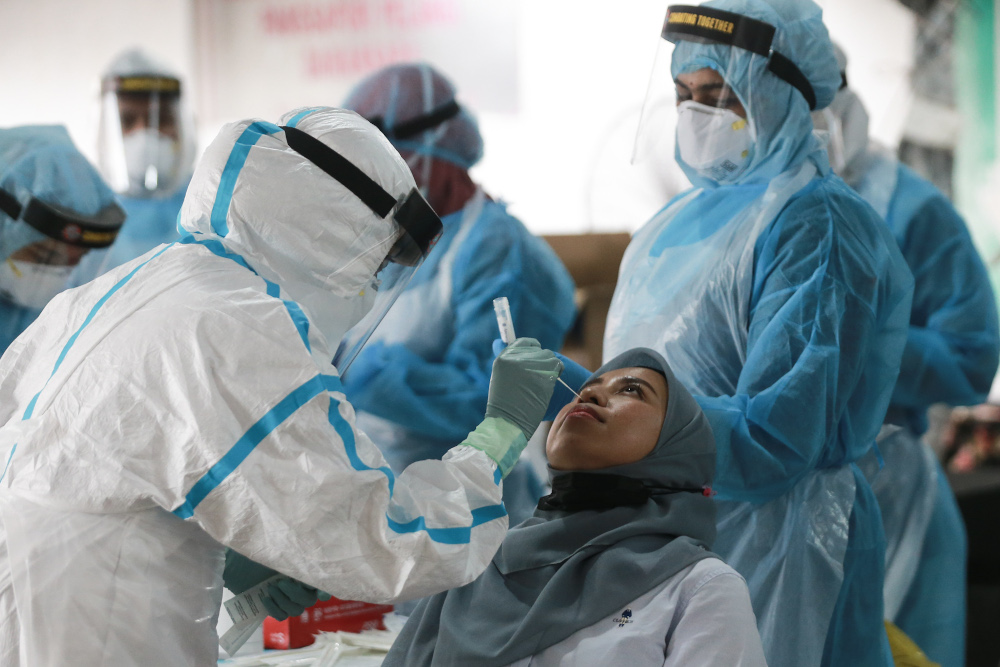Coverall: (1, 100, 488, 667)
Face_Shield: (620, 5, 776, 187), (1, 191, 135, 349), (343, 183, 444, 378), (89, 69, 198, 198)
Gloves: (460, 332, 566, 474)
with_mask: (665, 66, 745, 178), (4, 241, 89, 317), (114, 109, 178, 188)
without_mask: (544, 359, 667, 480)
